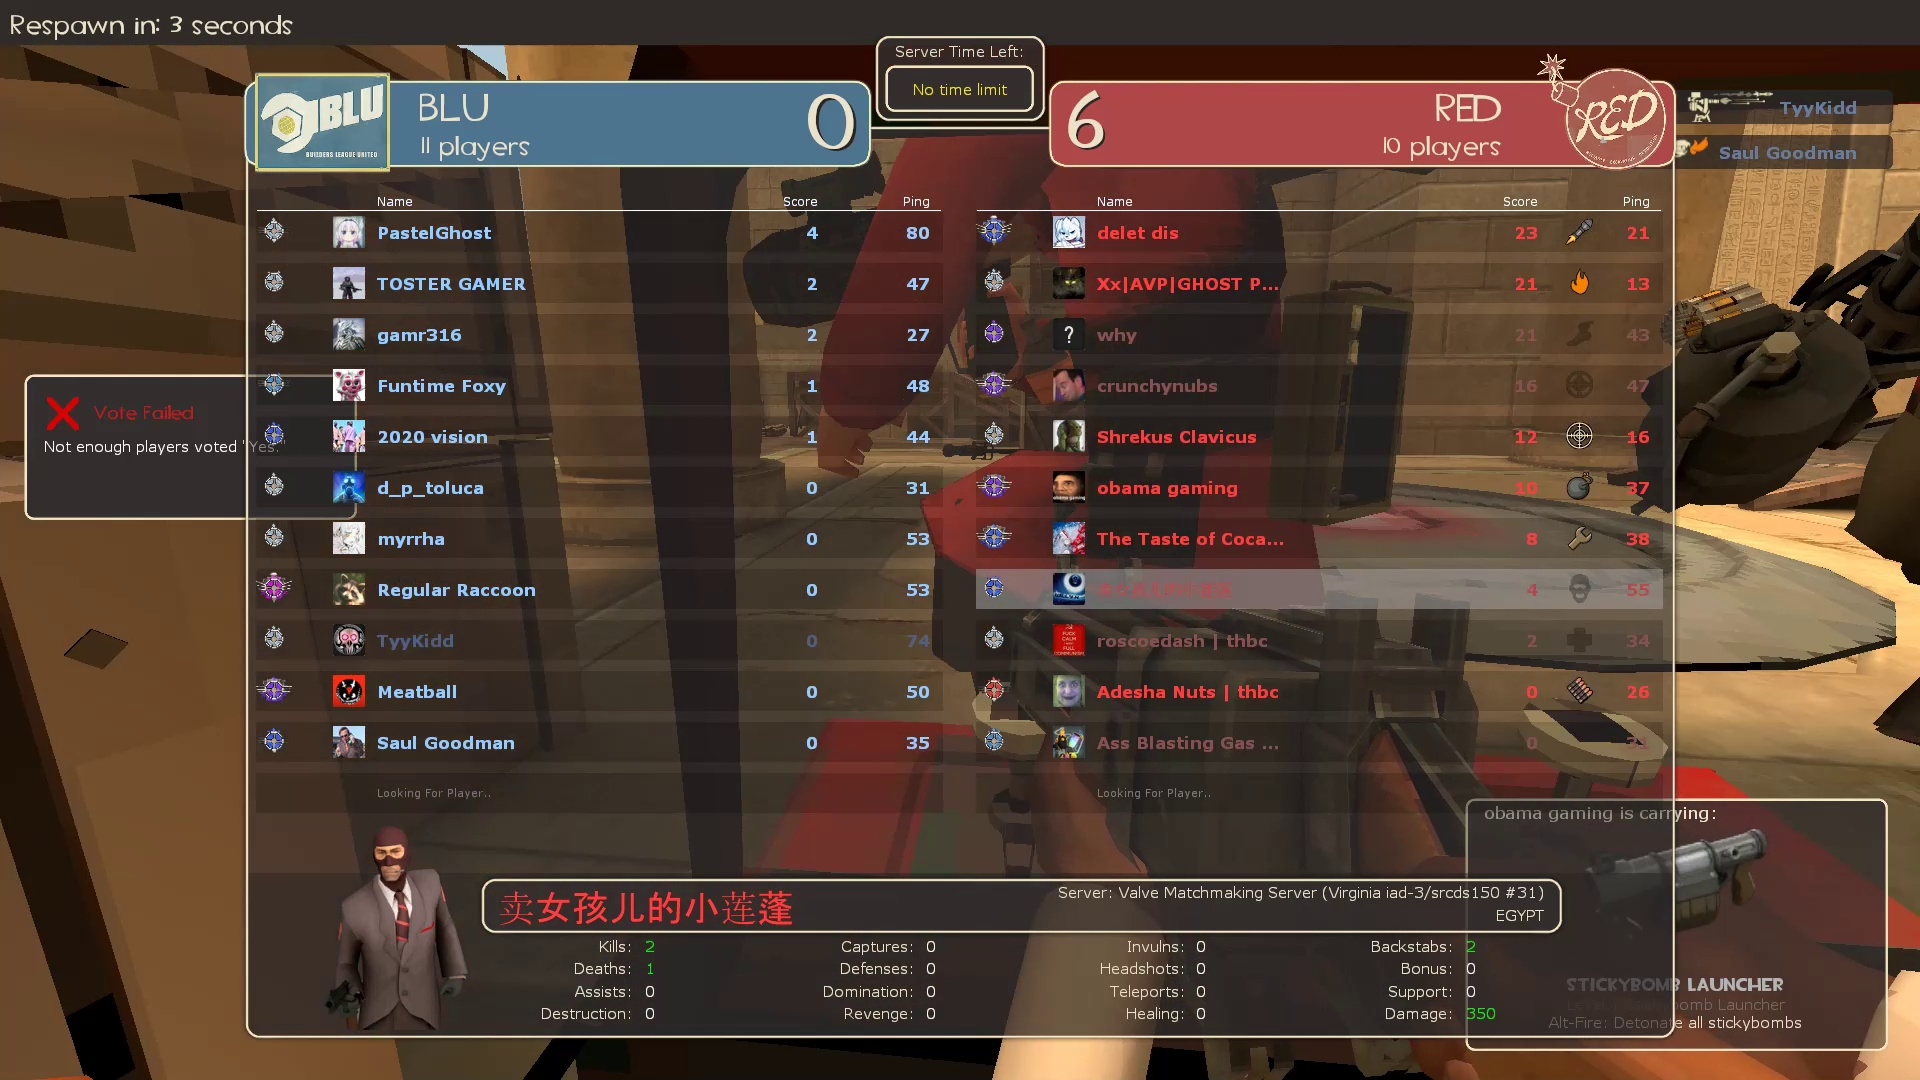red_heavy: (1600, 141, 1920, 758)
red_soldier: (735, 1, 1400, 839)
